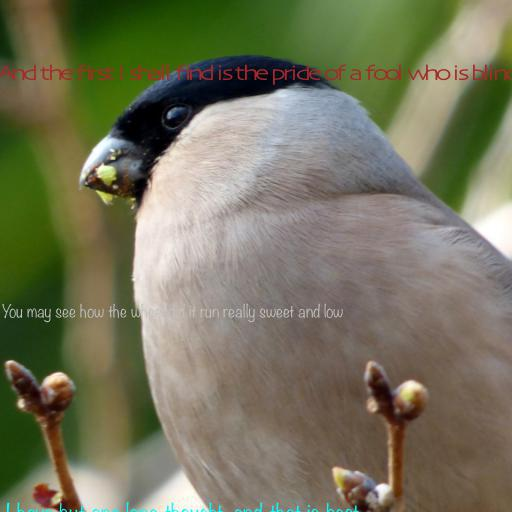Noteworthy: (1, 303, 343, 323), (5, 502, 359, 512)
Skia: (0, 64, 512, 85)
